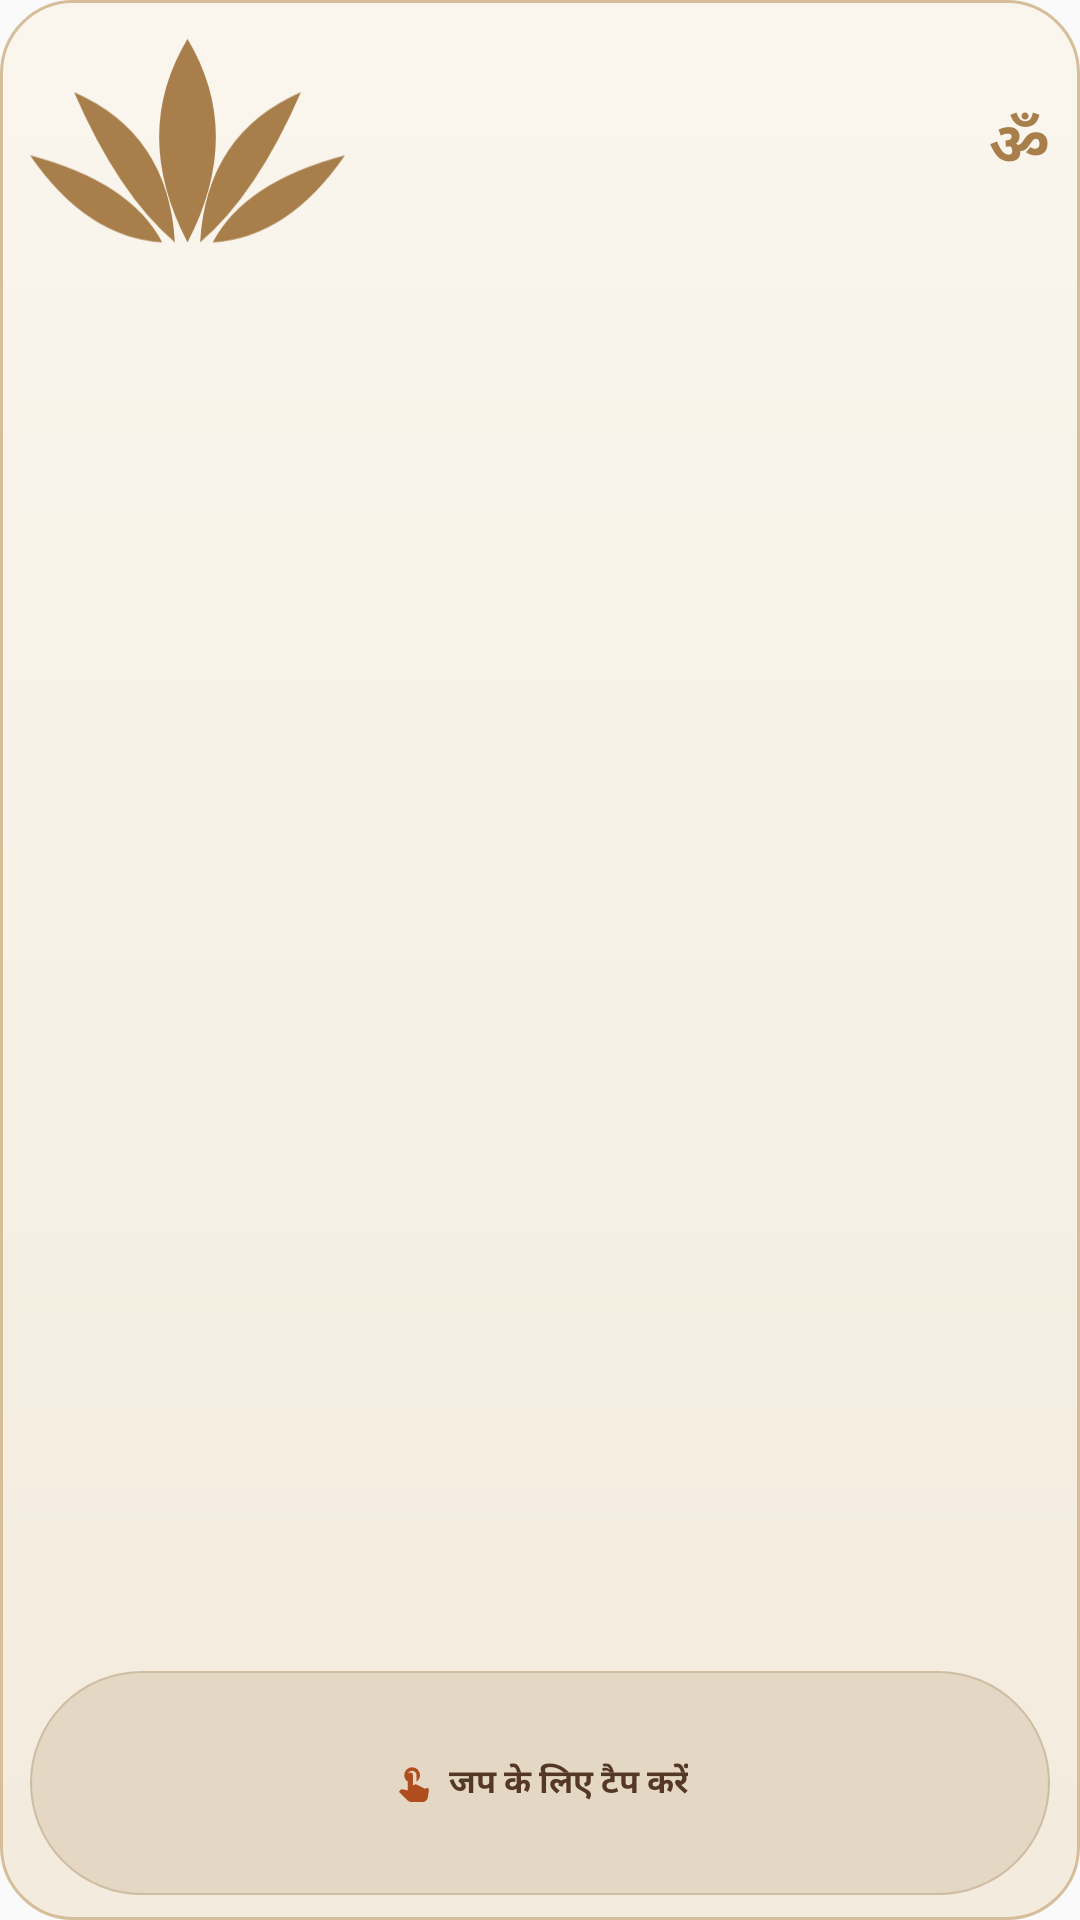

Locate icon controls on the screen. Image size 1080×1920, boxes as (x1, y1, x2, y2).
Lotus: (30, 39, 345, 243)
Tap: (399, 1767, 429, 1802)
